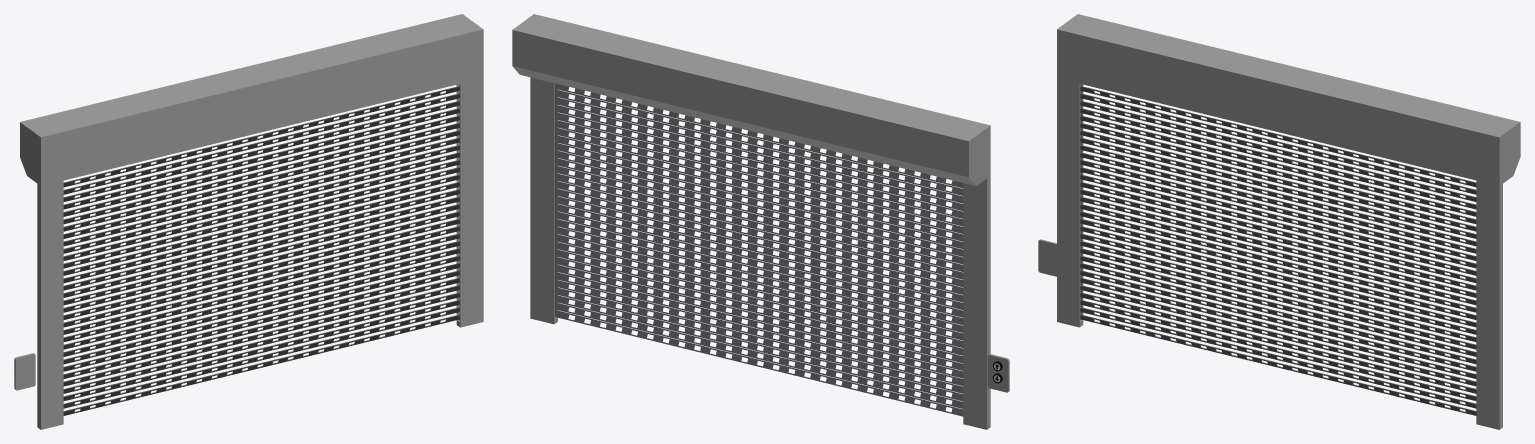
File: window_blind_pack.fbx
The picture shows the model from 3 angles, left to right: view 1: azimuth 30°, elevation 25°; view 2: azimuth 150°, elevation 25°; view 3: azimuth 330°, elevation 25°; orthographic projection. The views are drawn at different scales.
Parts seen in each view (by area): view 1: жалюзи, коробка сверху, подложка; view 2: жалюзи, коробка сверху, подложка; view 3: жалюзи, коробка сверху, подложка.
Part boxes in pixels (box(x1,y1,x2,y2)): жалюзи: box(63, 86, 459, 415); коробка сверху: box(20, 14, 483, 429); подложка: box(14, 353, 35, 390); жалюзи: box(555, 83, 963, 416); коробка сверху: box(512, 14, 990, 429); подложка: box(987, 354, 1009, 392); жалюзи: box(1080, 86, 1476, 415); коробка сверху: box(1057, 14, 1520, 429); подложка: box(1038, 239, 1056, 276).
Bounding box in the file's own units: 199 × 120 × 15.66.
